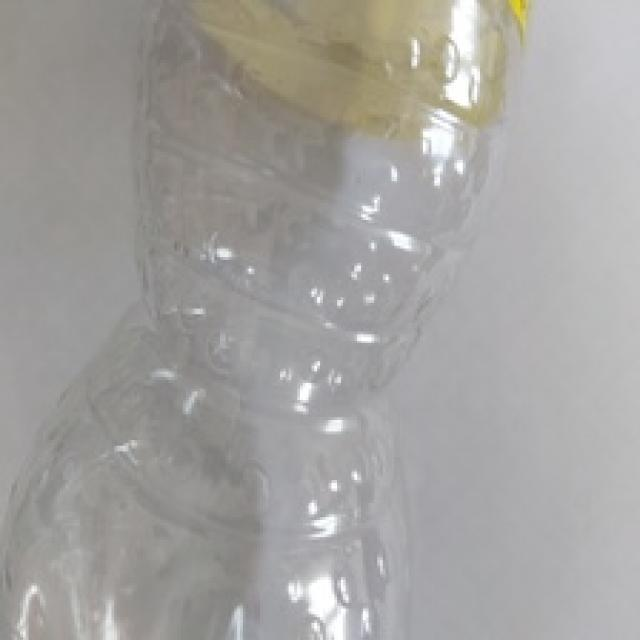plastic_bottle: (0, 0, 536, 640)
